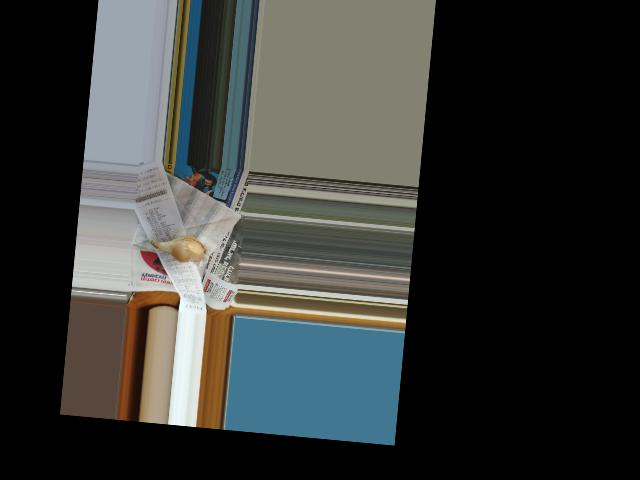onion: (155, 233, 206, 261)
